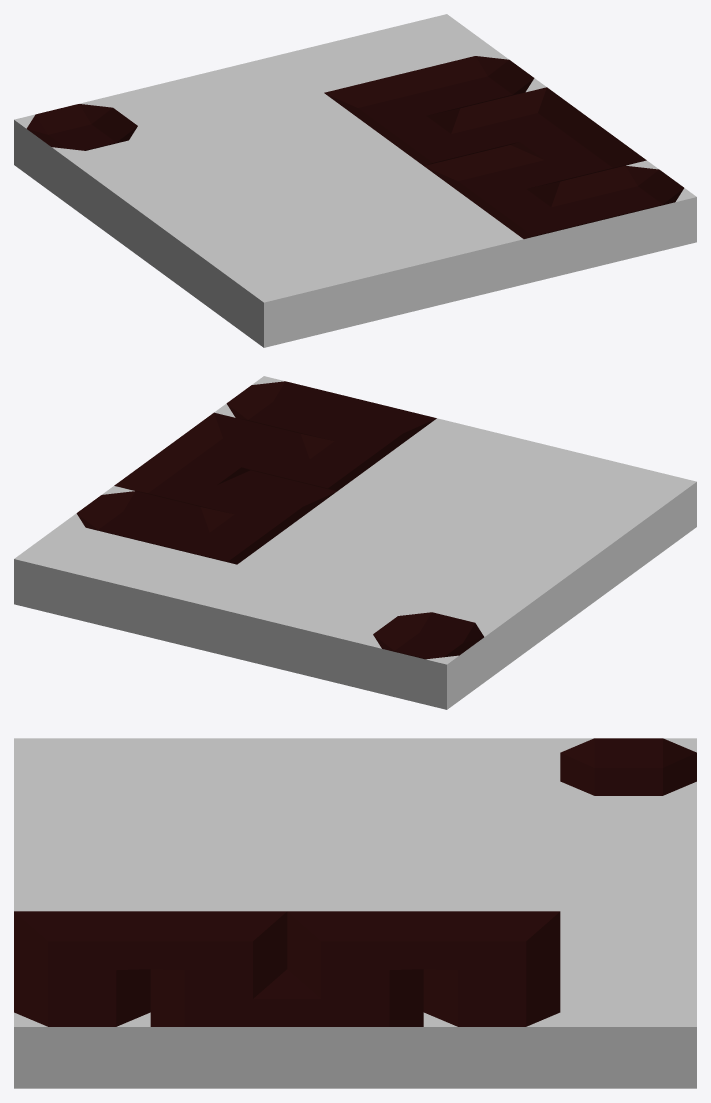
The picture shows the model from 3 angles, top to bottom: view 1: azimuth 30°, elevation 25°; view 2: azimuth 150°, elevation 25°; view 3: azimuth 270°, elevation 25°; orthographic projection. The views are drawn at different scales.
Visible parts, largest first — view 1: block.0.0_block.10881, ending.4.0_ending.1281, block.1.0_block.10886, block.2.0_block.10891, corner.3.0_corner.3204, block.0.2_block.10883, block.0.3_block.10884, block.0.4_Cube.025, block.0.1_block.10882, corner.4.2_corner.3209, ending.4.3_ending.1282, corner.3.1_corner.3205 (+13 smaller); view 2: block.0.4_Cube.025, block.3.4_block.10896, block.1.4_block.10890, block.4.4_block.10897, block.2.4_block.10895, block.0.0_block.10881, block.0.1_block.10882, block.0.2_block.10883, block.0.3_block.10884, corner.4.1_corner.3208, ending.4.0_ending.1281, ending.4.3_ending.1282 (+13 smaller); view 3: block.4.4_block.10897, corner.4.1_corner.3208, ending.4.3_ending.1282, ending.4.0_ending.1281, corner.4.2_corner.3209, corner.3.1_corner.3205, corner.3.3_corner.3207, corner.3.2_corner.3206, corner.3.0_corner.3204, block.2.1_block.10892, block.2.3_block.10894, block.2.0_block.10891 (+13 smaller).
Boxes of the visible parts, <box> form: block.0.0_block.10881: <box>214,245,350,347</box>; ending.4.0_ending.1281: <box>560,160,696,263</box>; block.1.0_block.10886: <box>301,224,437,326</box>; block.2.0_block.10891: <box>387,202,523,305</box>; corner.3.0_corner.3204: <box>474,181,610,284</box>; block.0.2_block.10883: <box>114,172,249,274</box>; block.0.3_block.10884: <box>64,135,200,237</box>; block.0.4_Cube.025: <box>14,98,149,201</box>; block.0.1_block.10882: <box>164,208,299,310</box>; corner.4.2_corner.3209: <box>460,87,596,150</box>; ending.4.3_ending.1282: <box>410,50,546,110</box>; corner.3.1_corner.3205: <box>424,145,559,208</box>; block.0.4_Cube.025: <box>360,607,496,709</box>; block.3.4_block.10896: <box>100,543,236,646</box>; block.1.4_block.10890: <box>273,586,409,688</box>; block.4.4_block.10897: <box>14,522,150,625</box>; block.2.4_block.10895: <box>187,564,323,667</box>; block.0.0_block.10881: <box>561,460,696,563</box>; block.0.1_block.10882: <box>510,497,646,599</box>; block.0.2_block.10883: <box>461,534,596,636</box>; block.0.3_block.10884: <box>411,570,546,672</box>; corner.4.1_corner.3208: <box>164,412,300,476</box>; ending.4.0_ending.1281: <box>214,376,350,435</box>; ending.4.3_ending.1282: <box>64,486,200,545</box>; block.4.4_block.10897: <box>560,969,696,1088</box>; corner.4.1_corner.3208: <box>150,969,287,1088</box>; ending.4.3_ending.1282: <box>423,969,560,1088</box>; ending.4.0_ending.1281: <box>14,969,150,1088</box>; corner.4.2_corner.3209: <box>287,969,423,1088</box>; corner.3.1_corner.3205: <box>150,911,287,984</box>; corner.3.3_corner.3207: <box>423,911,560,984</box>; corner.3.2_corner.3206: <box>287,911,423,984</box>; corner.3.0_corner.3204: <box>14,911,150,984</box>; block.2.1_block.10892: <box>150,853,287,911</box>; block.2.3_block.10894: <box>423,853,560,911</box>; block.2.0_block.10891: <box>14,853,150,911</box>.
Bounding box in the file's own units: 10 × 1 × 10.
